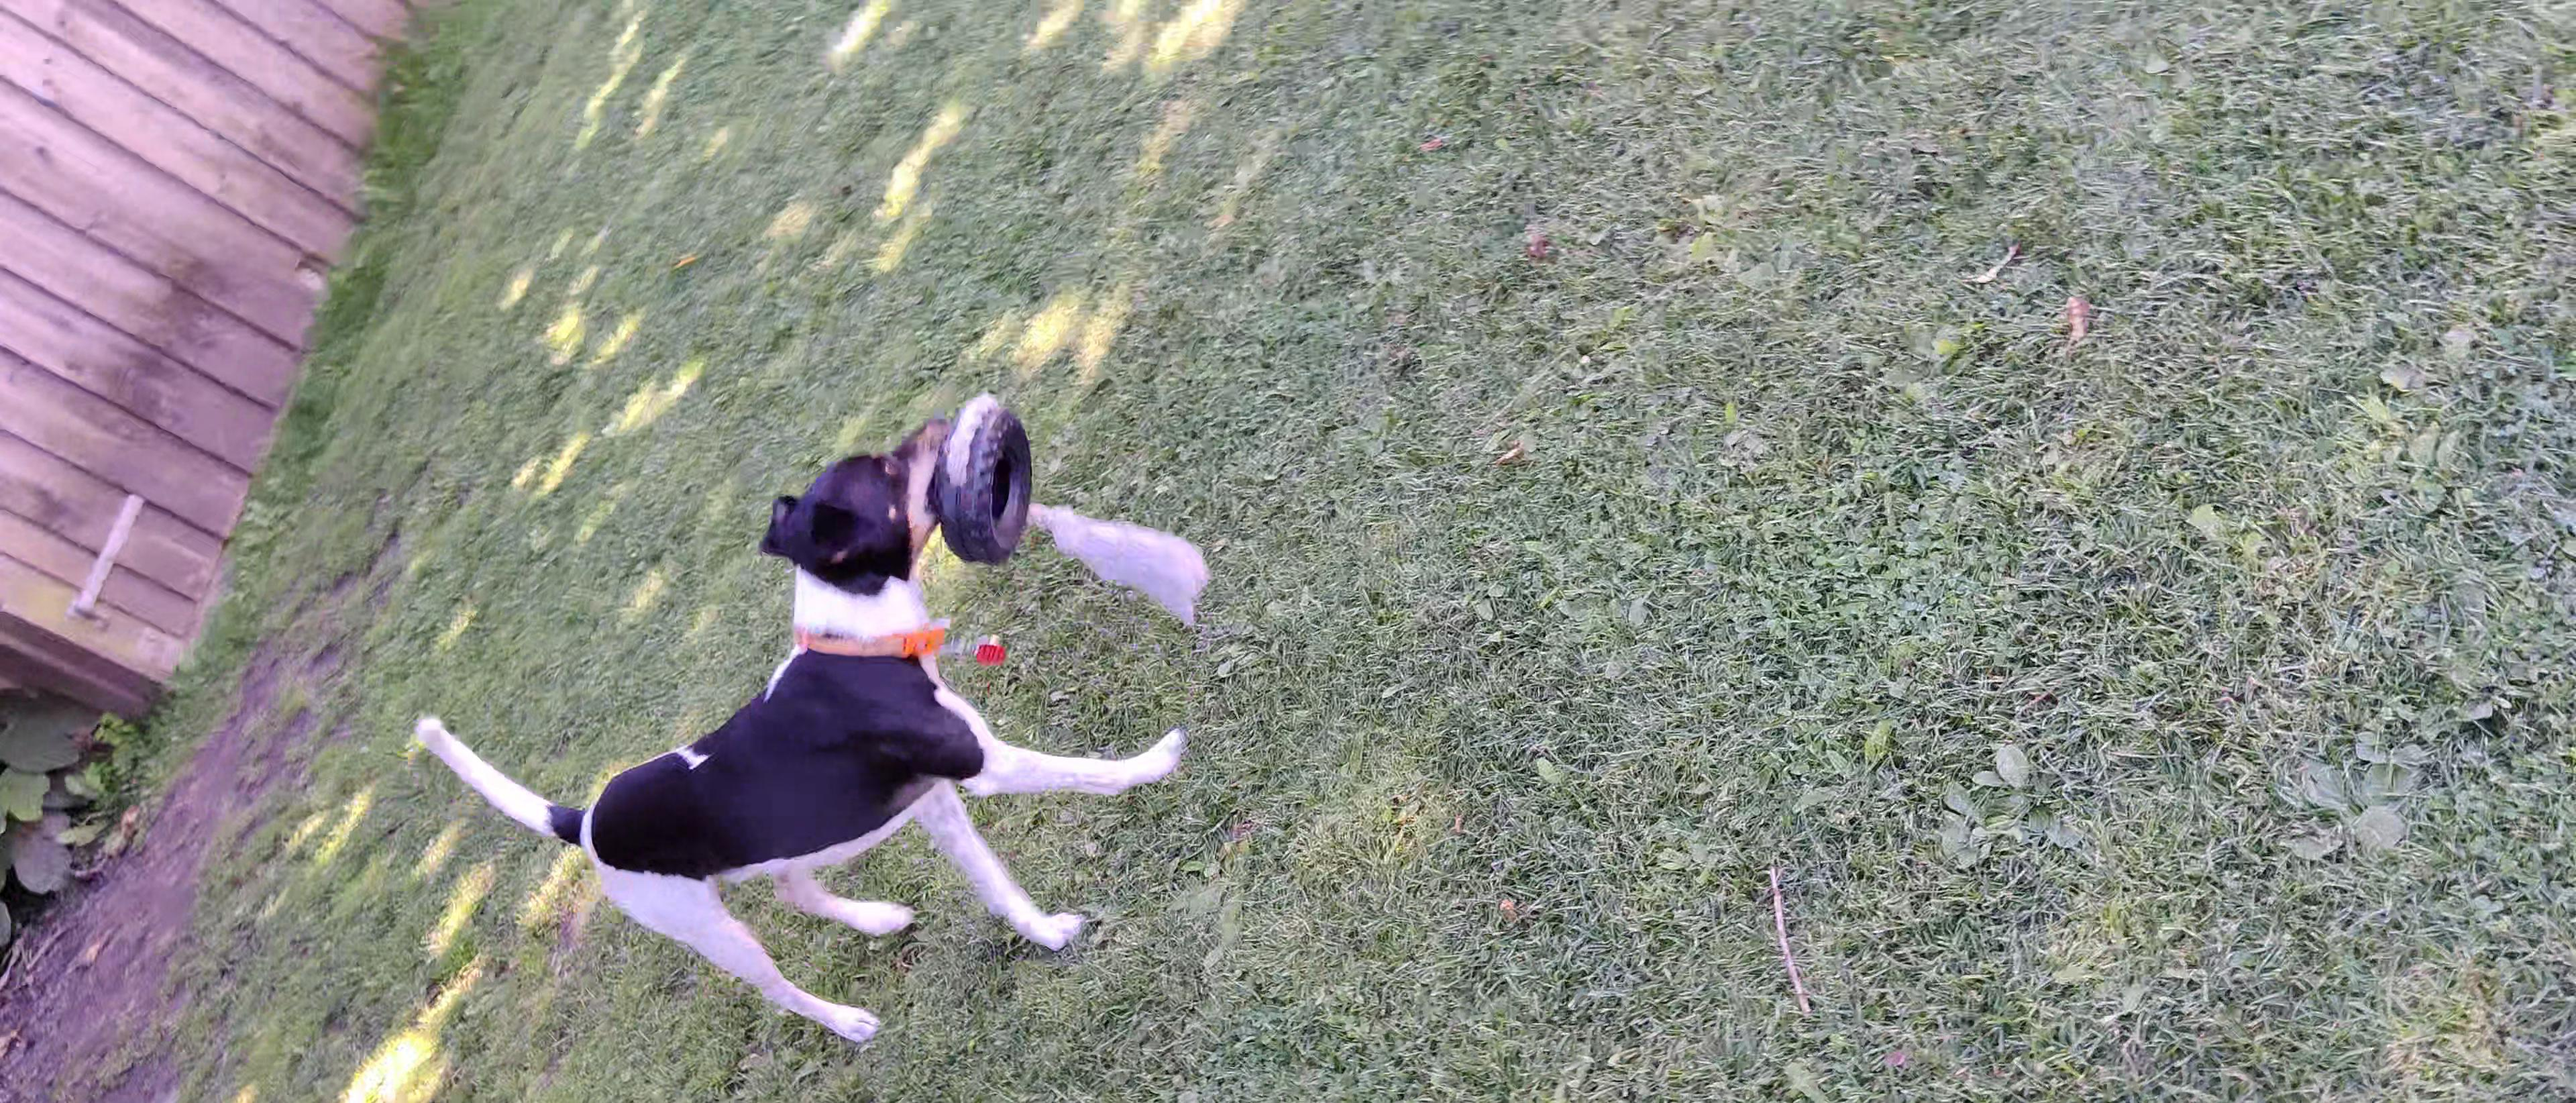Dog: (406, 411, 1198, 1042)
